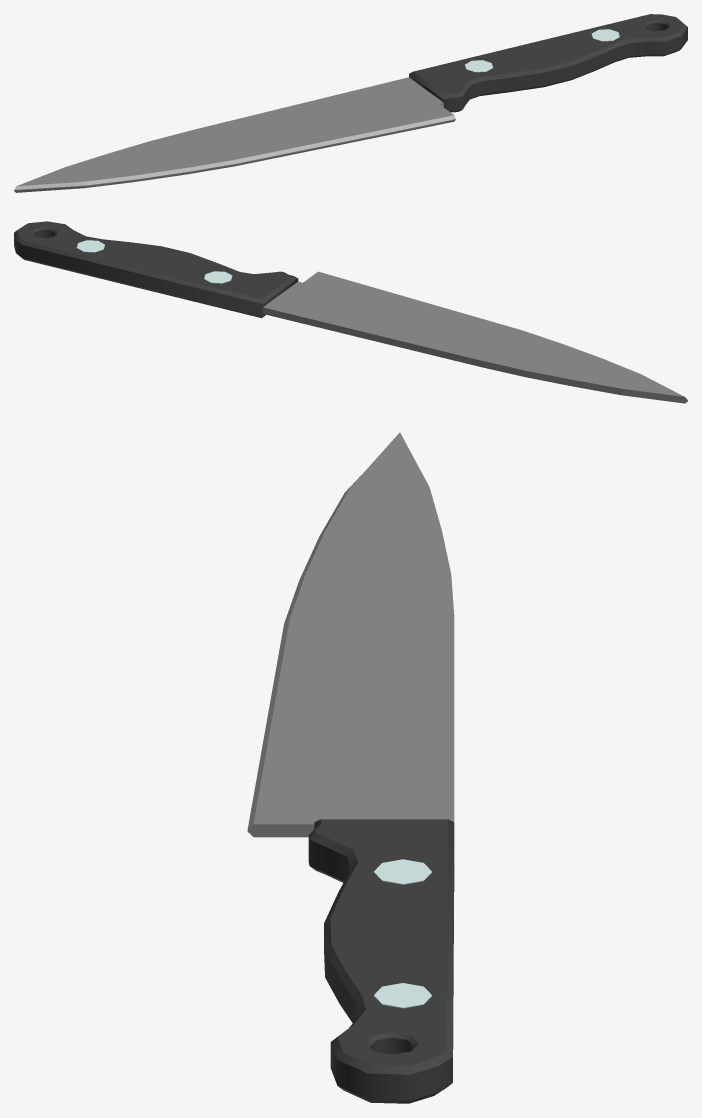
Rendered from kitchen knife.fbx.
The picture shows the model from 3 angles, top to bottom: view 1: azimuth 30°, elevation 25°; view 2: azimuth 150°, elevation 25°; view 3: azimuth 270°, elevation 25°; orthographic projection. The views are drawn at different scales.
Parts seen in each view (by area): view 1: Plane, Plane.001, Circle; view 2: Plane, Plane.001, Circle; view 3: Plane, Plane.001, Circle.
Boxes of the visible parts, x1,y1,x2,y2 form: Plane: [14, 77, 455, 192]; Plane.001: [409, 14, 687, 112]; Circle: [465, 29, 619, 72]; Plane: [263, 271, 687, 403]; Plane.001: [14, 221, 298, 318]; Circle: [76, 240, 232, 283]; Plane: [247, 432, 454, 837]; Plane.001: [308, 819, 454, 1103]; Circle: [373, 859, 432, 1008].
Bounding box in the file's own units: 190 × 5.33 × 25.45.
